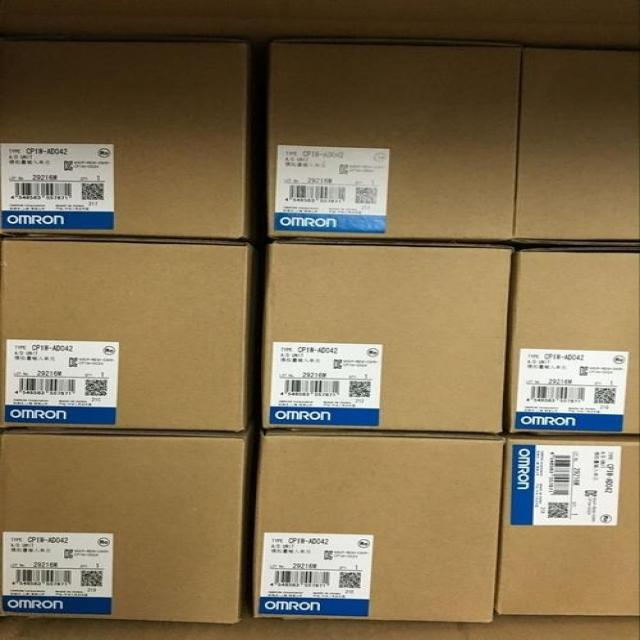box: (0, 37, 269, 254), (0, 415, 259, 624), (266, 37, 524, 245), (0, 236, 266, 431), (253, 429, 506, 625), (259, 241, 512, 434), (495, 435, 640, 617), (502, 246, 639, 436), (513, 47, 640, 246)
